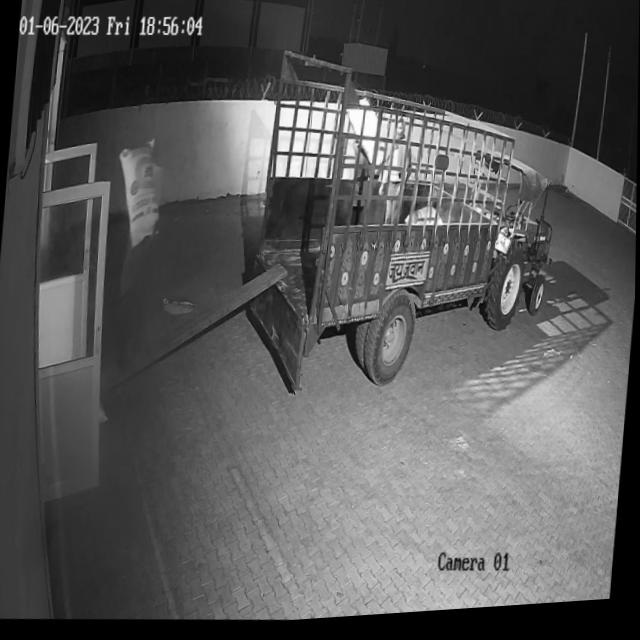sack: (113, 140, 164, 251)
